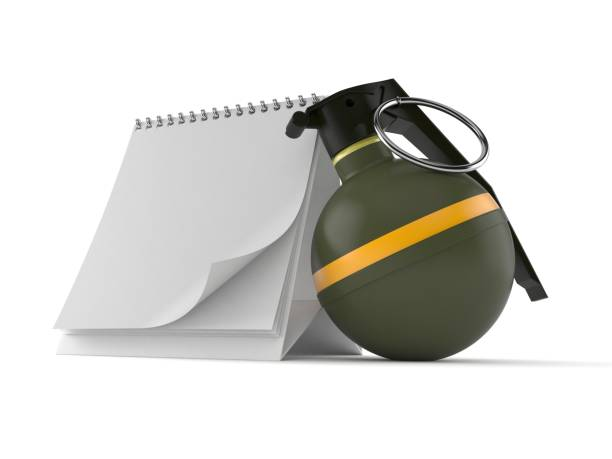e1: (286, 78, 550, 361)
